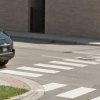crosswalk: (0, 55, 100, 77), (41, 82, 100, 100)
